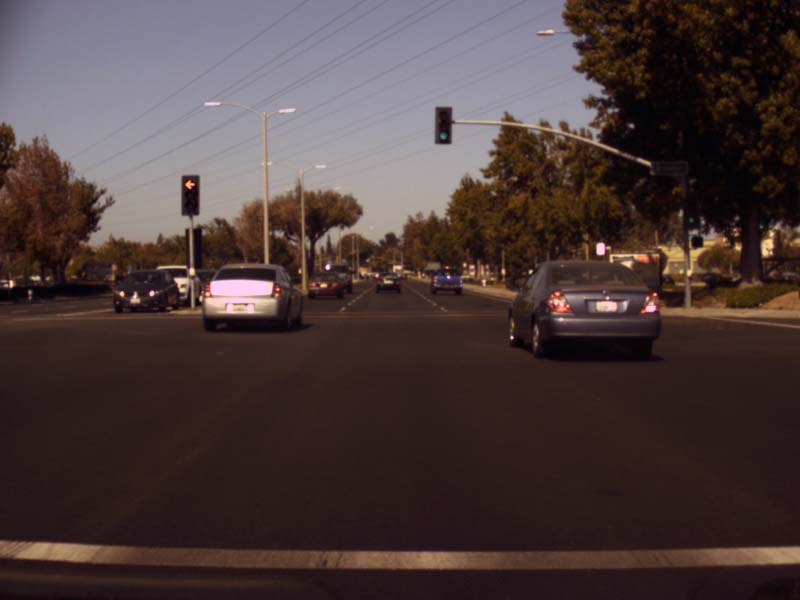Green: (434, 107, 450, 143), (682, 201, 700, 228)
Red: (181, 174, 198, 213)
